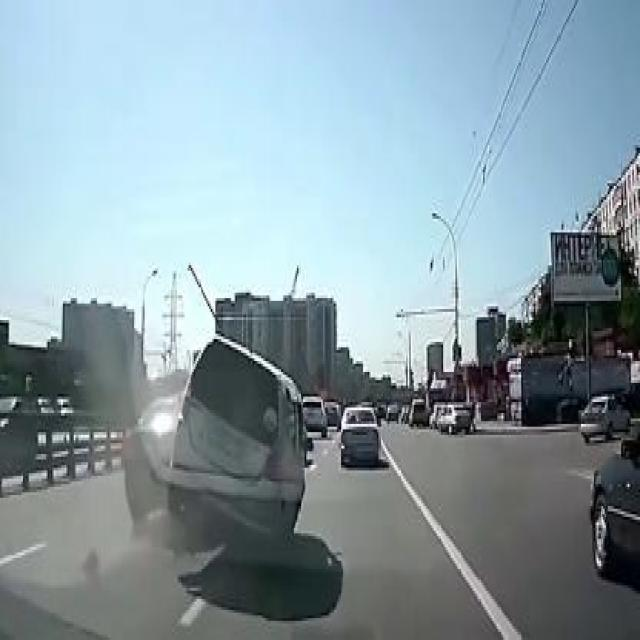accident: (127, 328, 310, 574)
